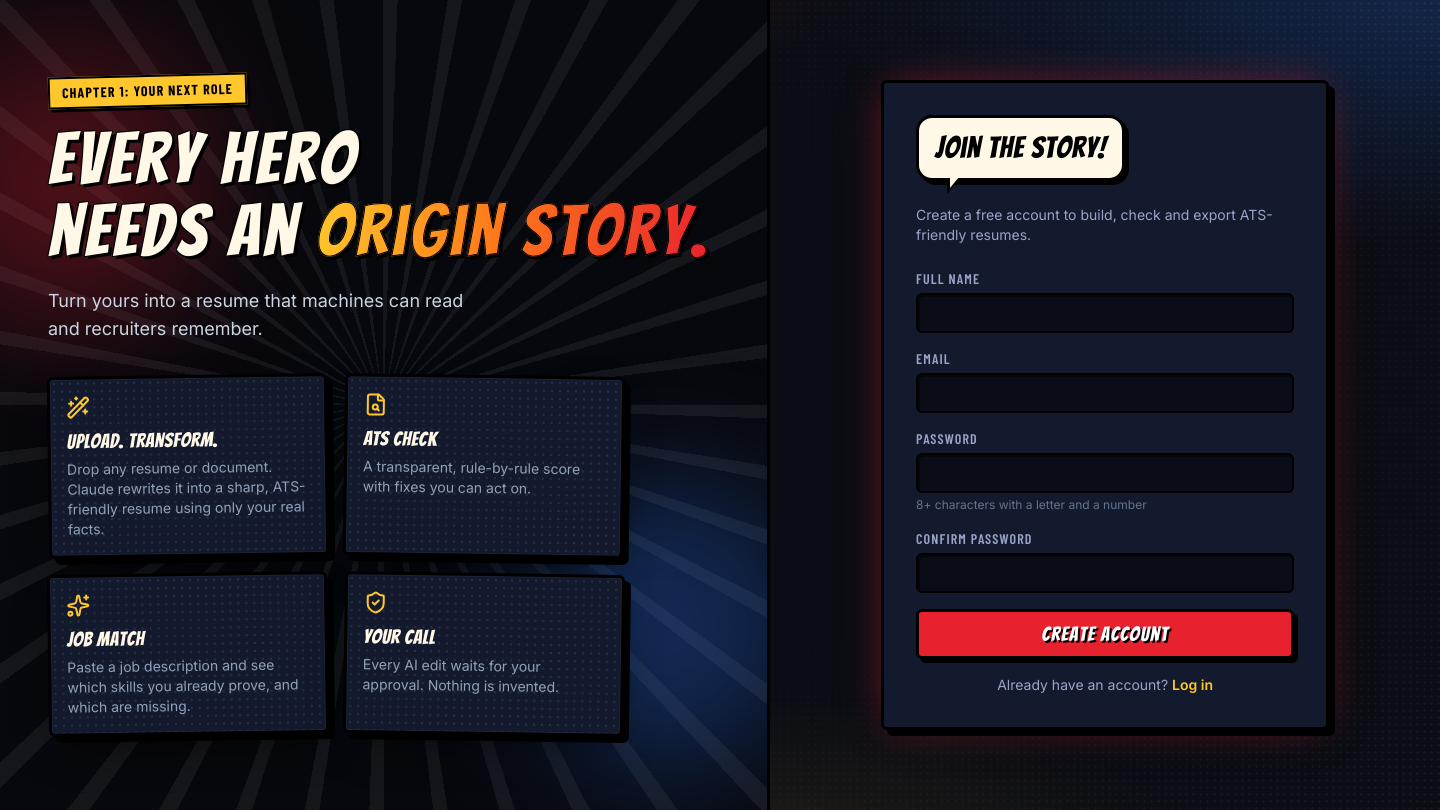
Test: auth forms › checks that passwords match on register
The width and height of the screenshot is (1440, 810).
Type "A" into the field labelled "Full name" at (1105, 313), box [916,293,1294,333]
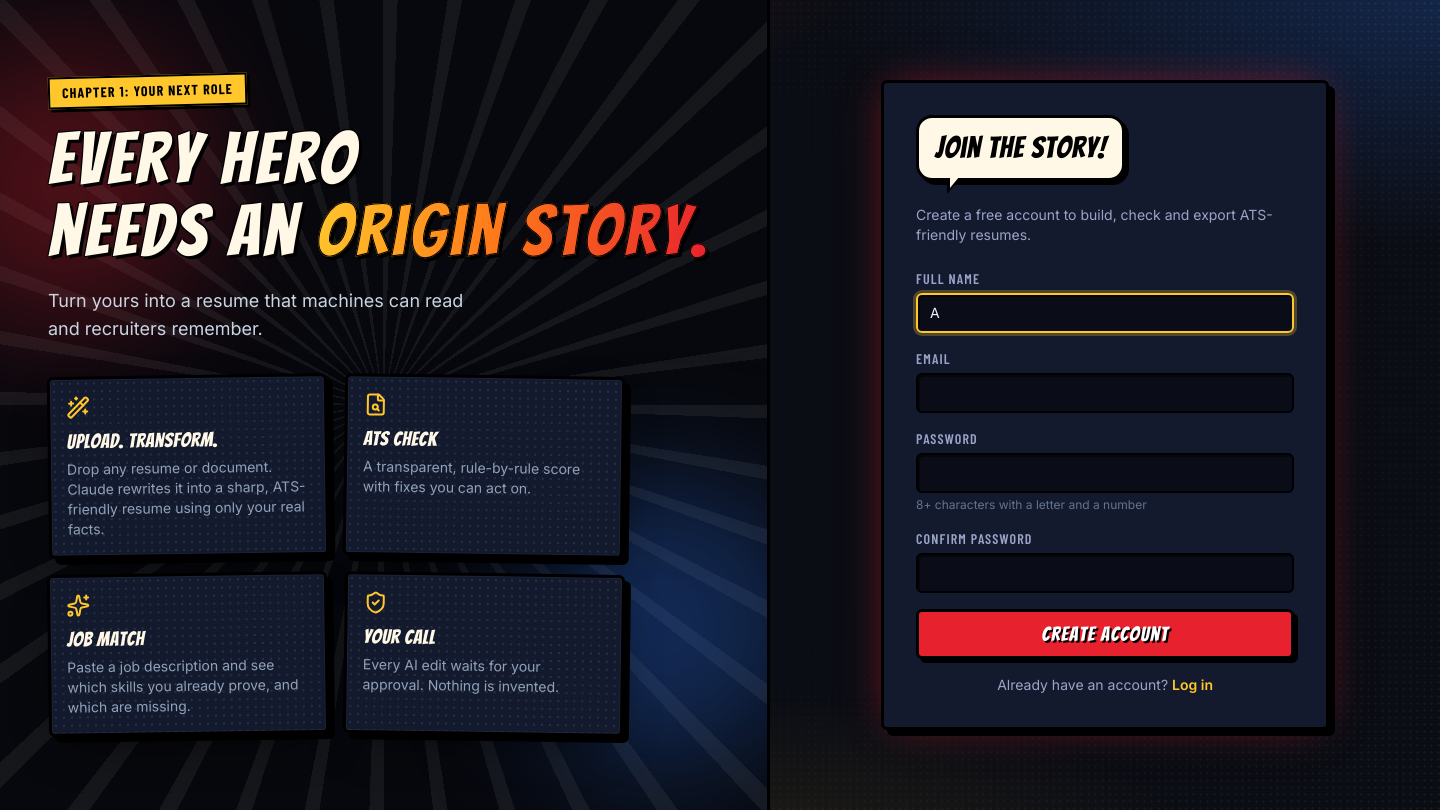
Type "a@example.com" into the field labelled "Email" at (1105, 393), box [916,373,1294,413]
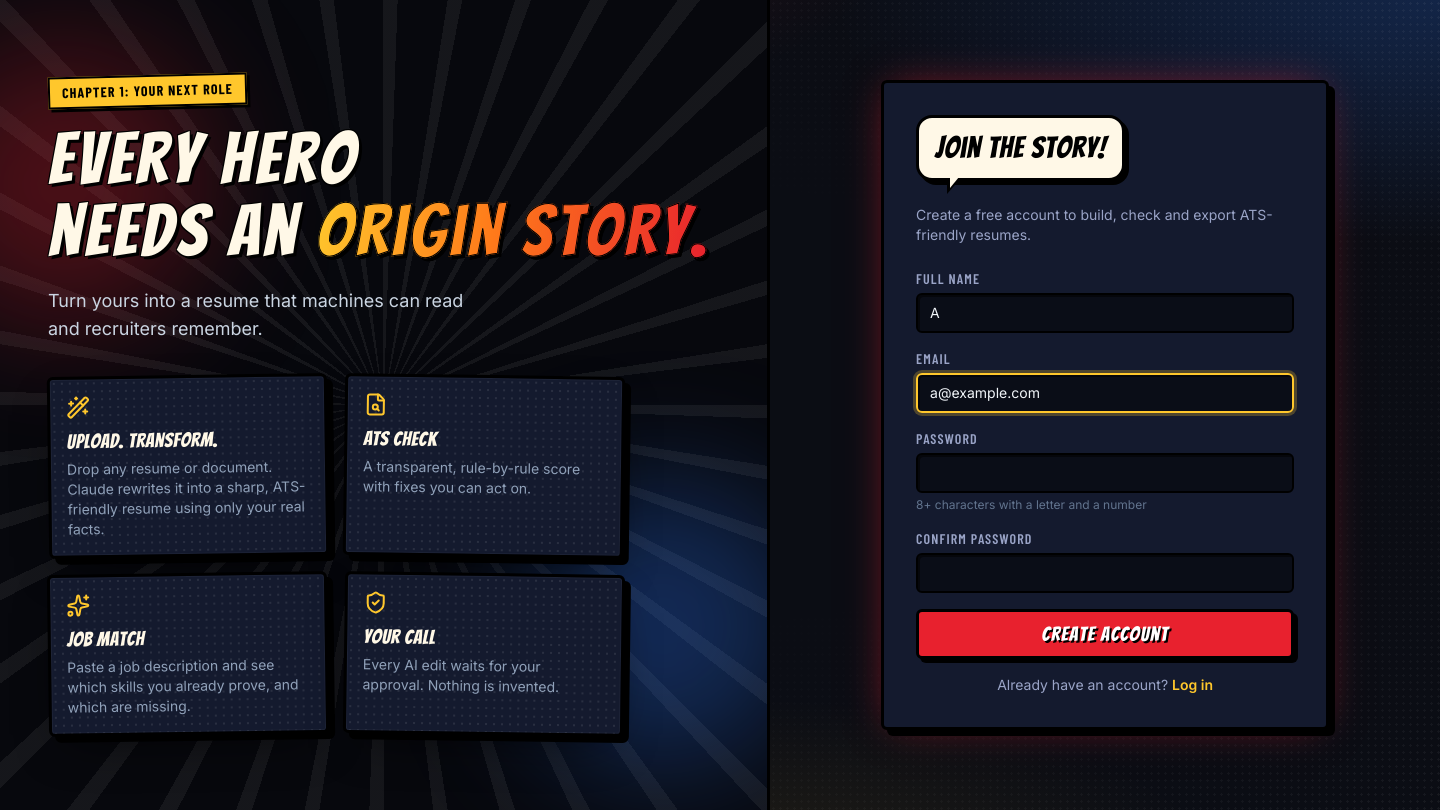
Type "Passw0rd!" into the password field labelled "Password" at (1105, 473), box [916,453,1294,493]
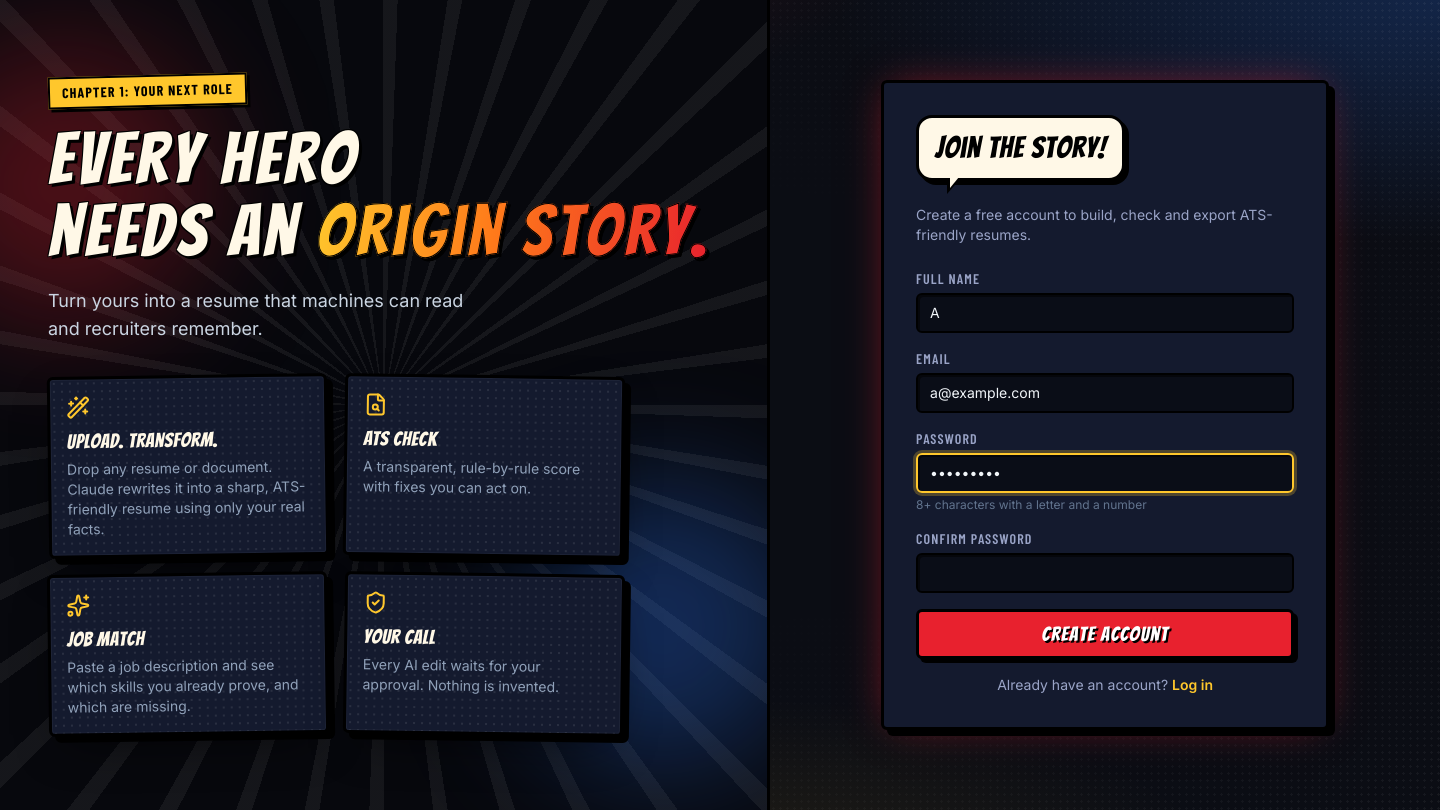
Type "Different1" into the password field labelled "Confirm password" at (1105, 573), box [916,553,1294,593]
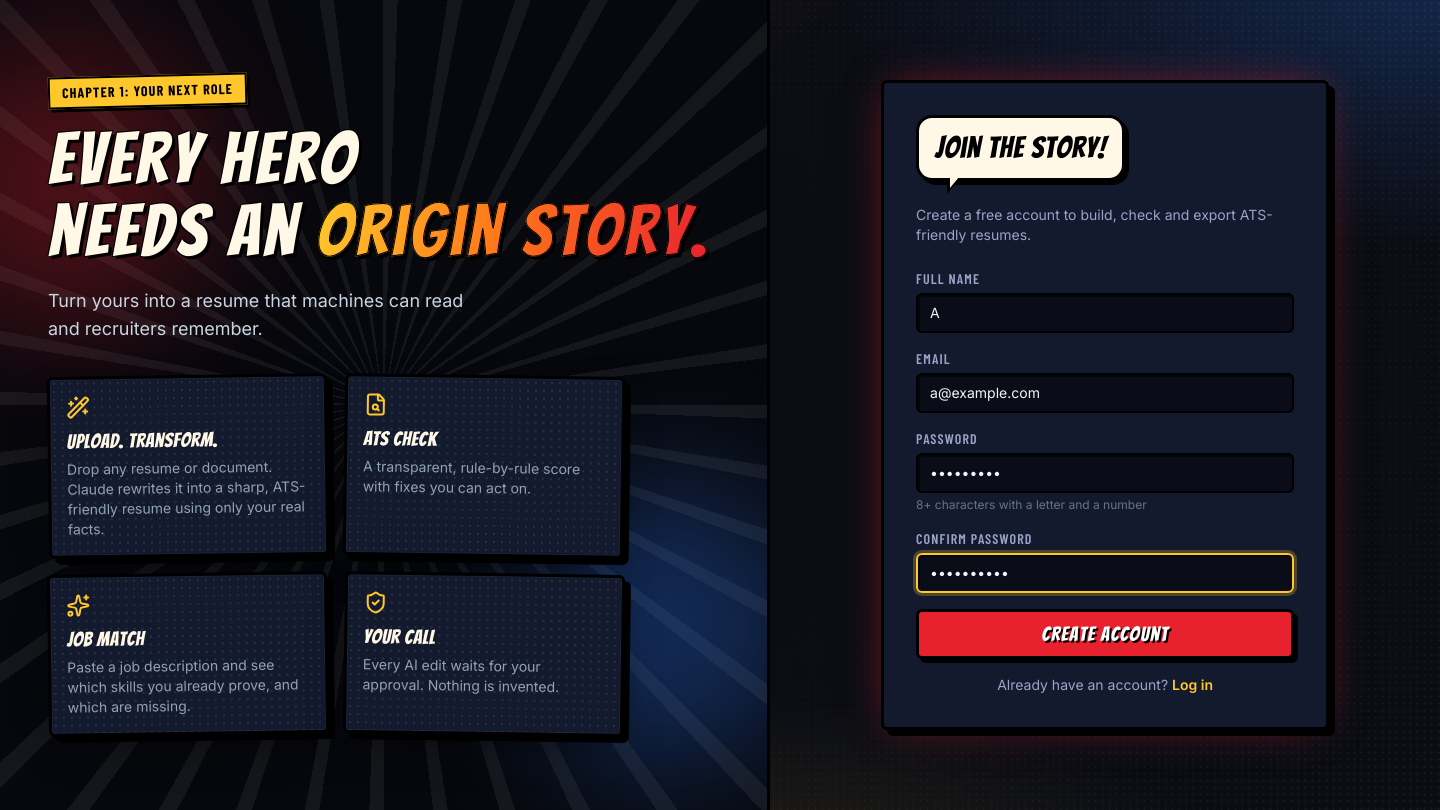
Click the button "Create account" at (1105, 634), box [916,609,1294,659]
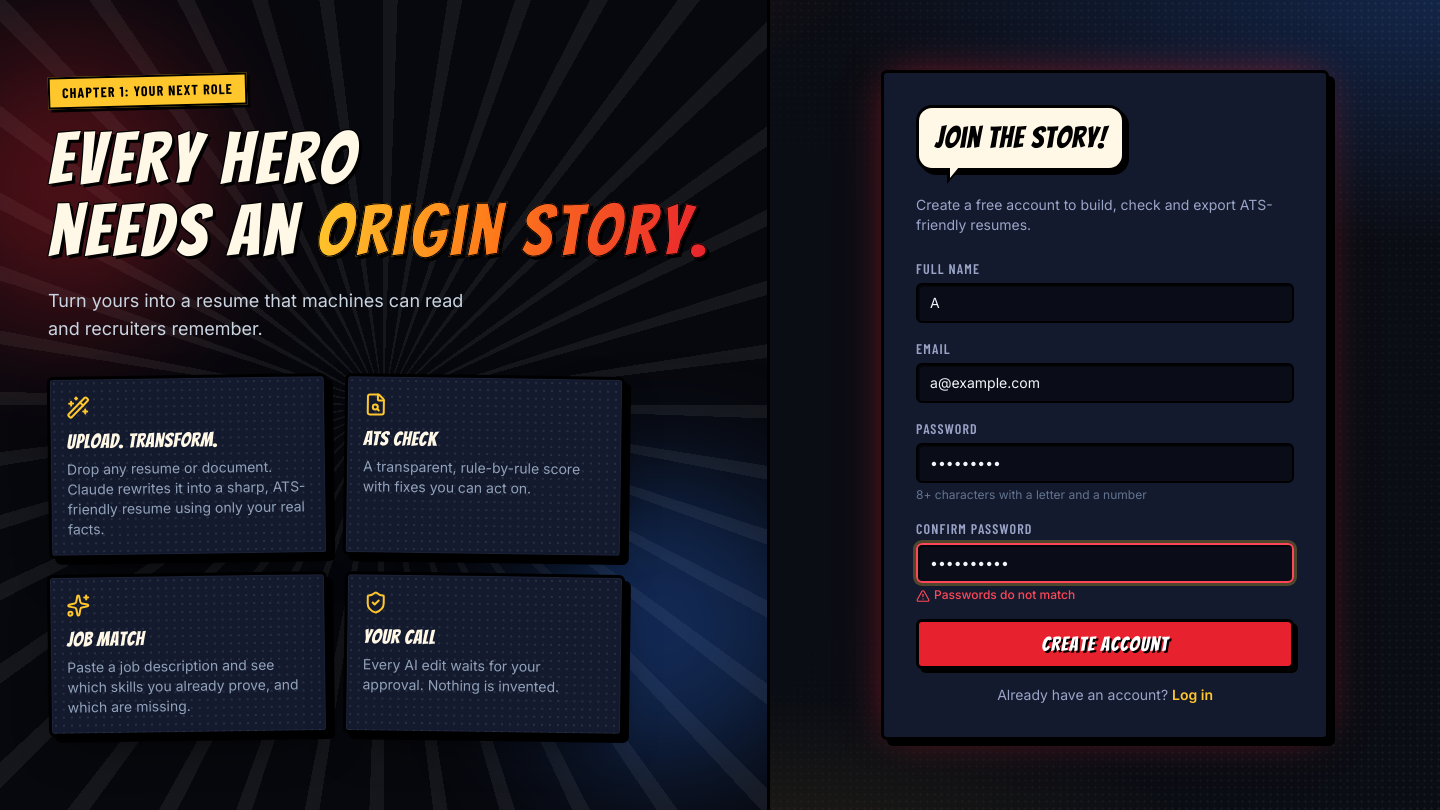
Expected: the text "Passwords do not match" is shown, [916,587,1075,603]
